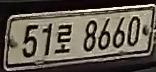0: (127, 14, 141, 49)
1: (41, 21, 54, 57)
5: (21, 23, 41, 59)
6: (112, 15, 127, 50), (99, 16, 112, 50)
8: (82, 17, 98, 55)
로: (54, 23, 74, 54)
